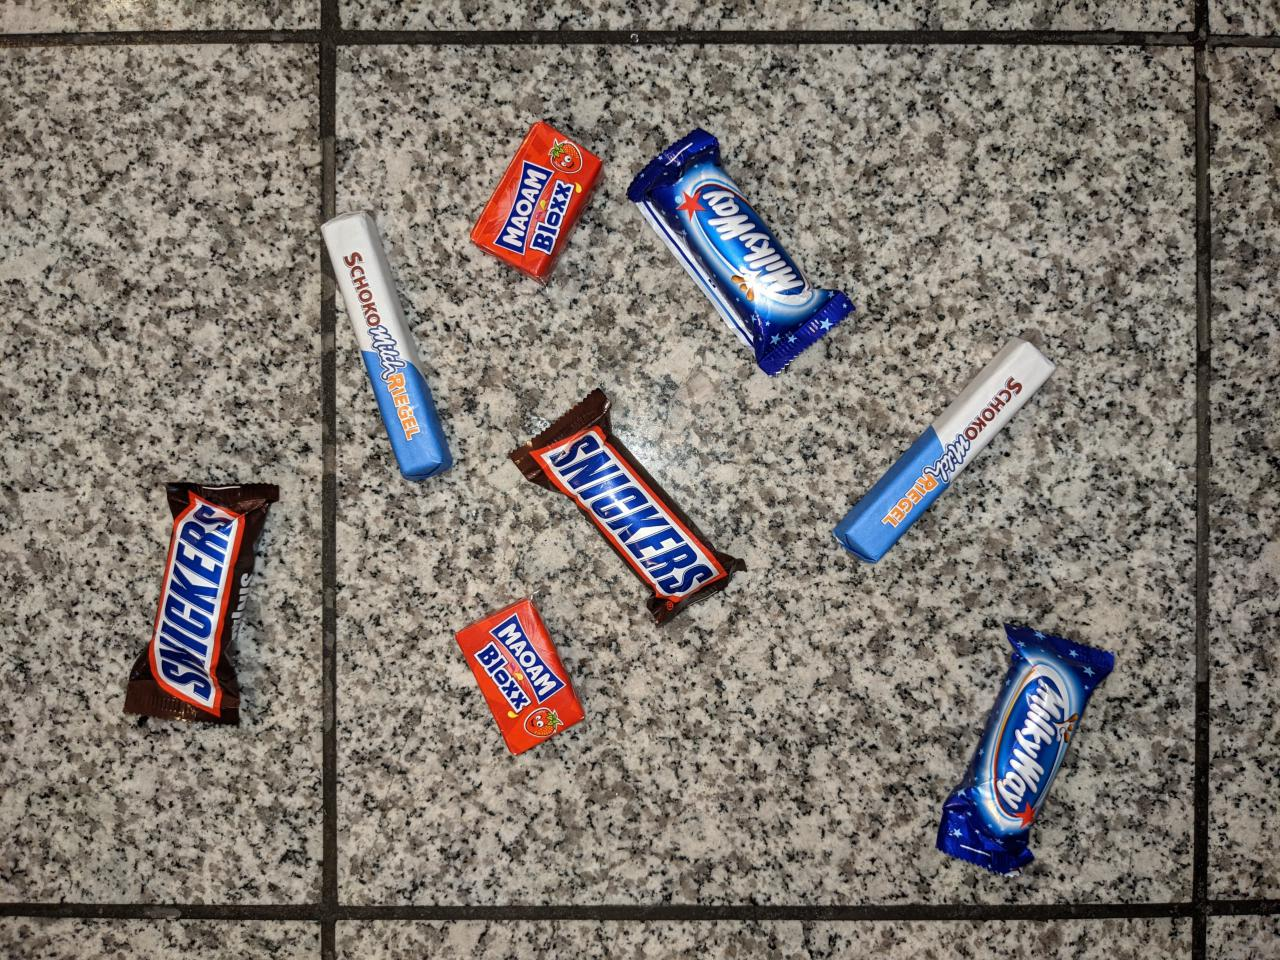MAOAM: (463, 115, 611, 292), (452, 590, 592, 760)
MilkyWay: (621, 124, 861, 381), (931, 615, 1119, 887)
Schokoriegel: (829, 333, 1062, 567), (315, 205, 460, 483)
Snickers: (499, 382, 751, 630), (116, 476, 287, 731)
